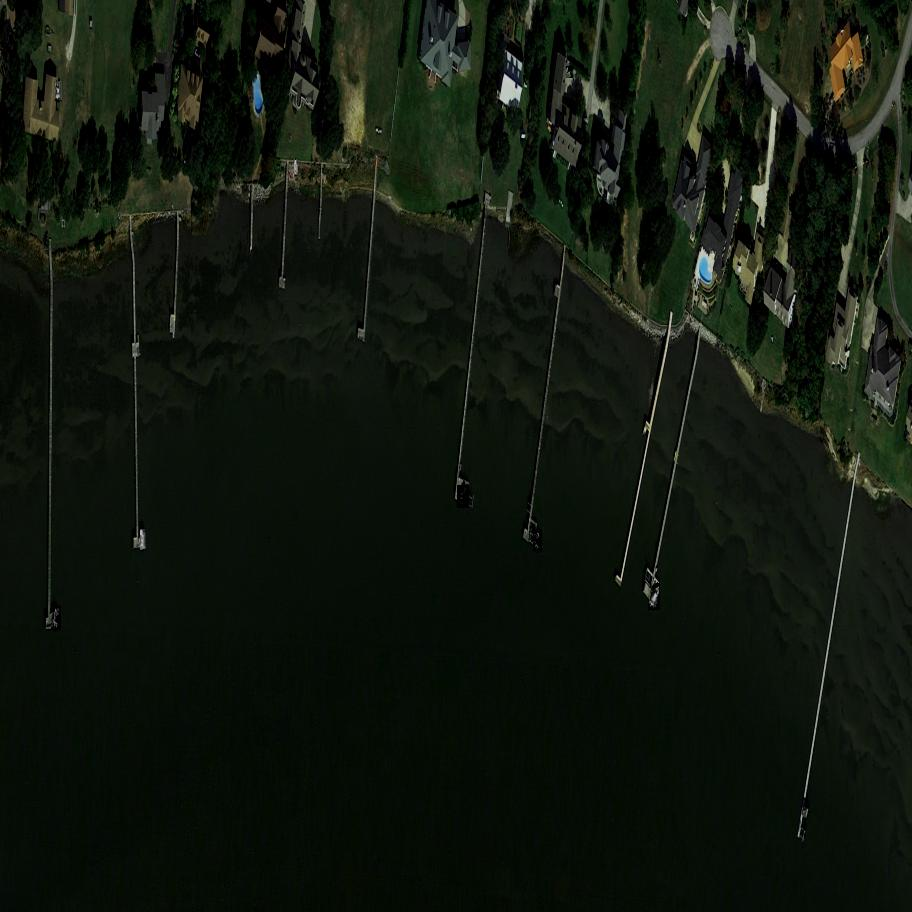ship: (647, 583, 662, 610), (457, 485, 471, 508), (52, 606, 62, 631), (535, 530, 542, 552), (141, 529, 146, 551), (295, 161, 297, 175)
small-vehicle: (54, 81, 62, 101), (564, 66, 576, 79), (789, 197, 792, 215), (584, 119, 585, 138)
